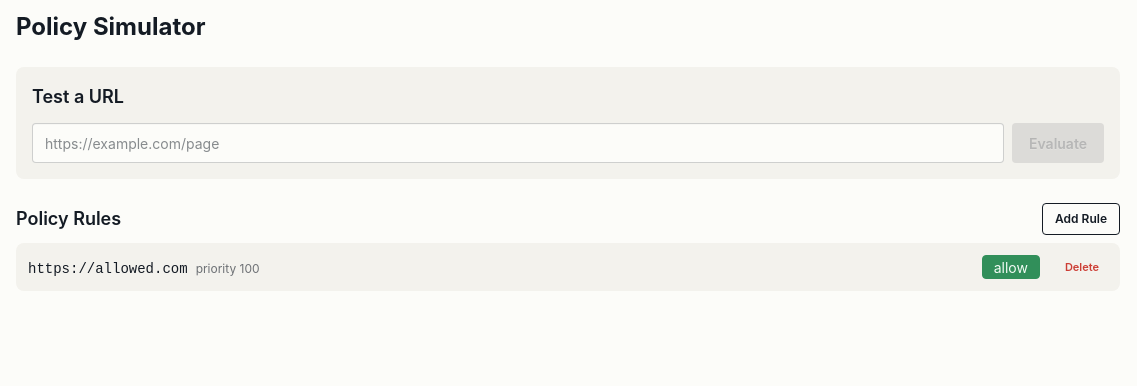
Test: PolicySimulatorPage › shows decision result after evaluation
Type "https://allowed.com/page" into the field with placeholder "https://example.com/page".
click(518, 143); type("https://allowed.com/page")  # box [32,123,1004,163]
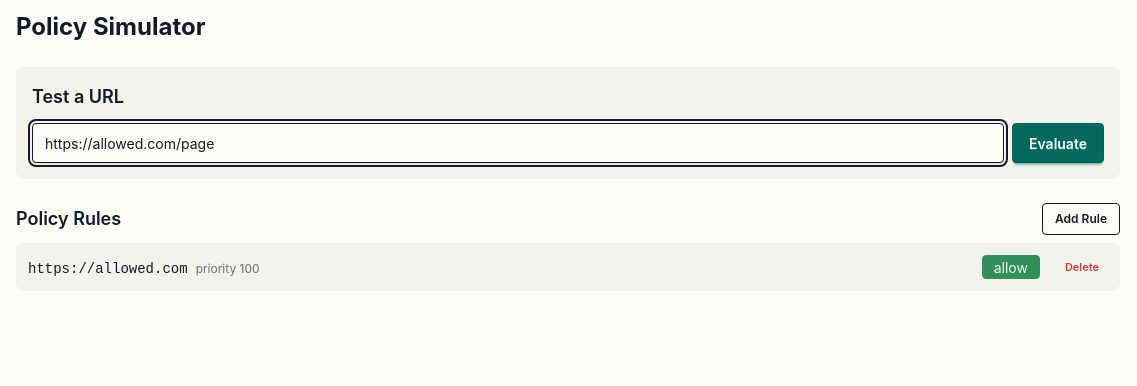
Click the button "Evaluate".
click(1058, 143)  # box [1012,123,1104,163]
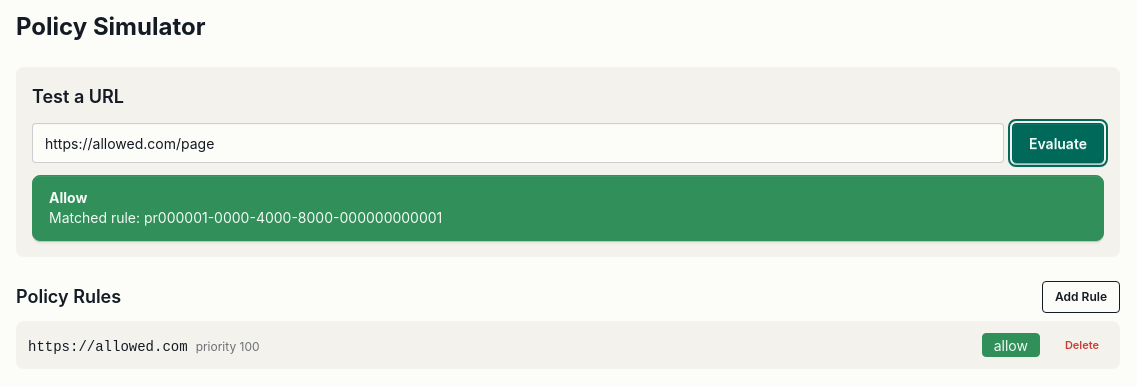
Check: the text "Matched rule: pr000001-0000-4000-8000-000000000001" is shown, box [49,208,442,228]
